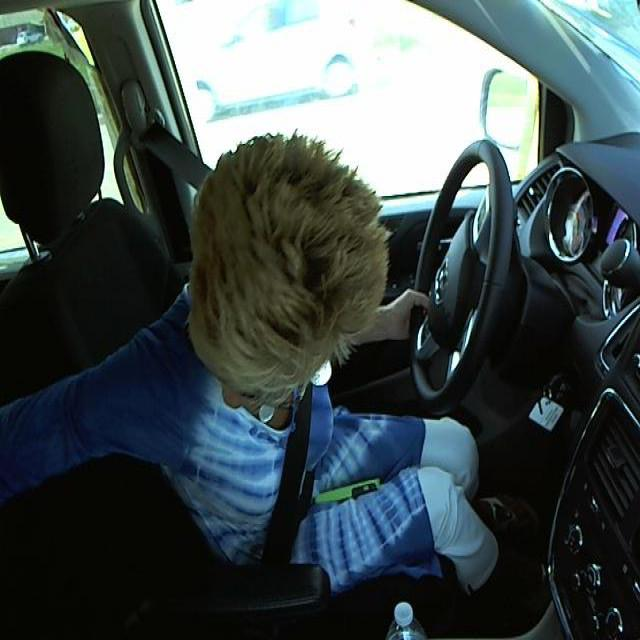seatbelt: (262, 387, 318, 568)
